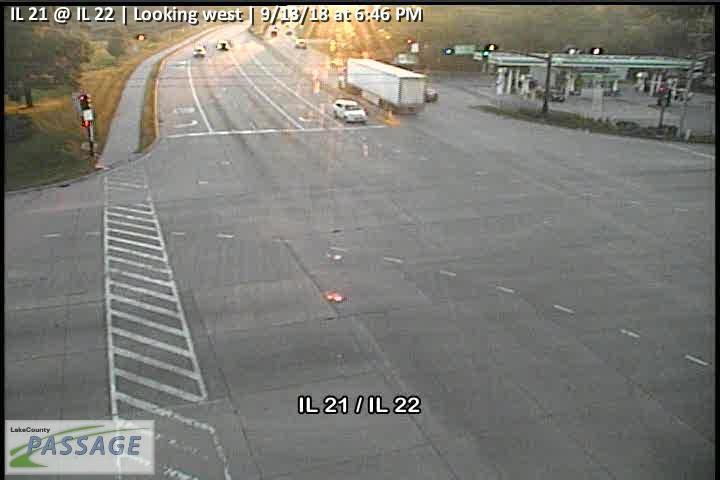SUV: (333, 99, 368, 123)
Truck: (339, 57, 426, 116)
